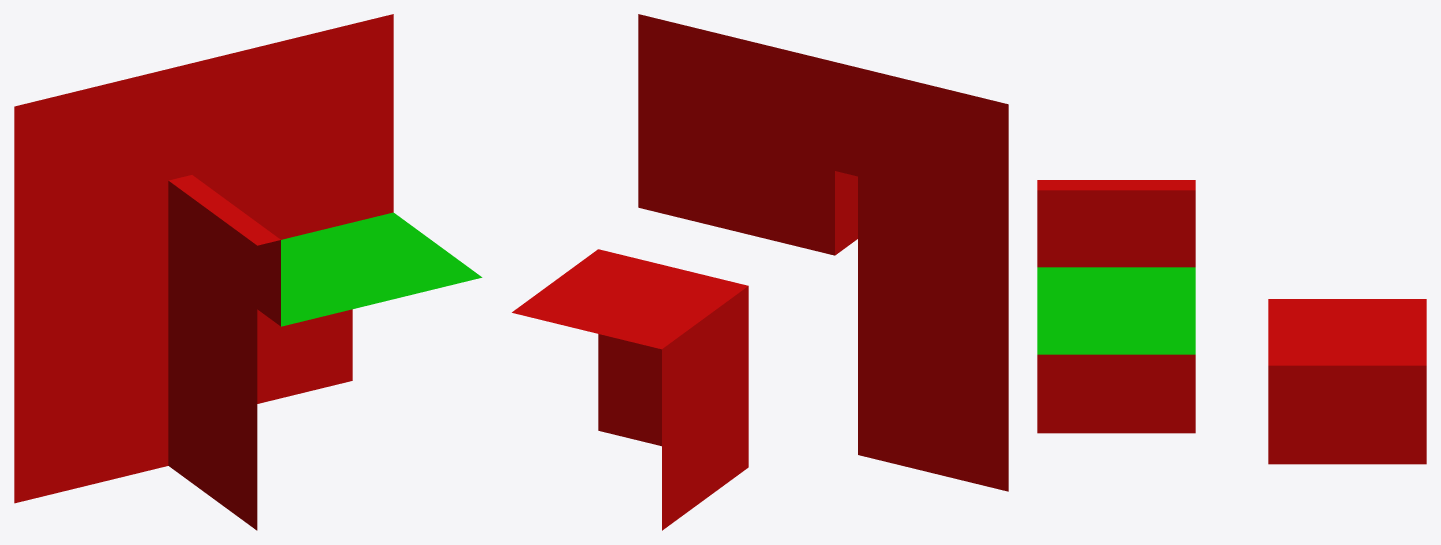
The picture shows the model from 3 angles, left to right: view 1: azimuth 30°, elevation 25°; view 2: azimuth 150°, elevation 25°; view 3: azimuth 270°, elevation 25°; orthographic projection. The views are drawn at different scales.
Visible parts, largest first — view 1: None_E_W_A_E_A_E_A_E_None; view 2: None_E_W_A_E_A_E_A_E_None; view 3: None_E_W_A_E_A_E_A_E_None.
Boxes of the visible parts, left/top/right/bottom form: None_E_W_A_E_A_E_A_E_None: left=14, top=14, right=482, bottom=530; None_E_W_A_E_A_E_A_E_None: left=512, top=14, right=1008, bottom=530; None_E_W_A_E_A_E_A_E_None: left=1037, top=180, right=1426, bottom=464.
Size of the model in its own units: 100 by 100 by 100.
